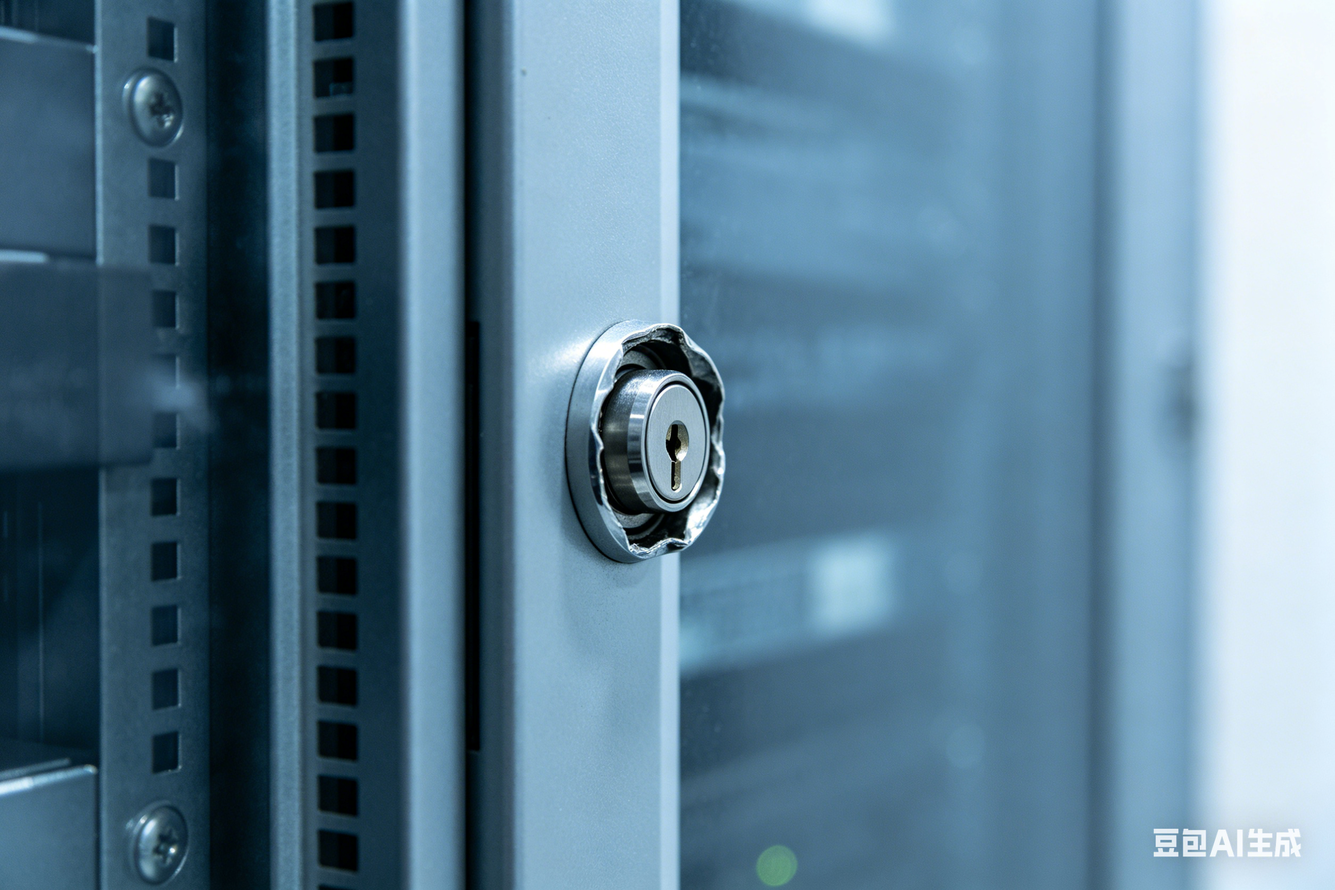BadLock: (565, 296, 734, 576)
